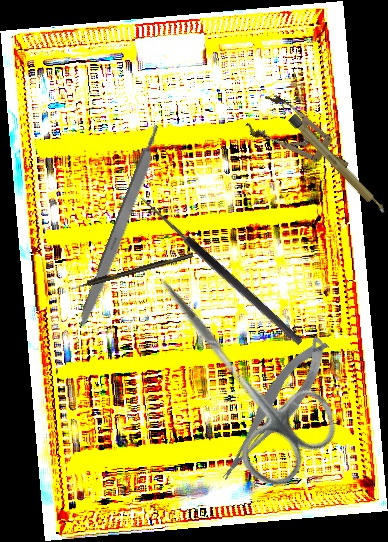Hook Surgical: (130, 194, 304, 354), (69, 252, 195, 291)
Iris Scissors: (117, 247, 350, 498)
Micro Scissor: (201, 332, 344, 486)
Scalpel Handle: (75, 123, 167, 332), (287, 113, 388, 217)
Speculum: (242, 89, 360, 188)
